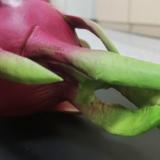pitaya: (1, 1, 143, 136)
